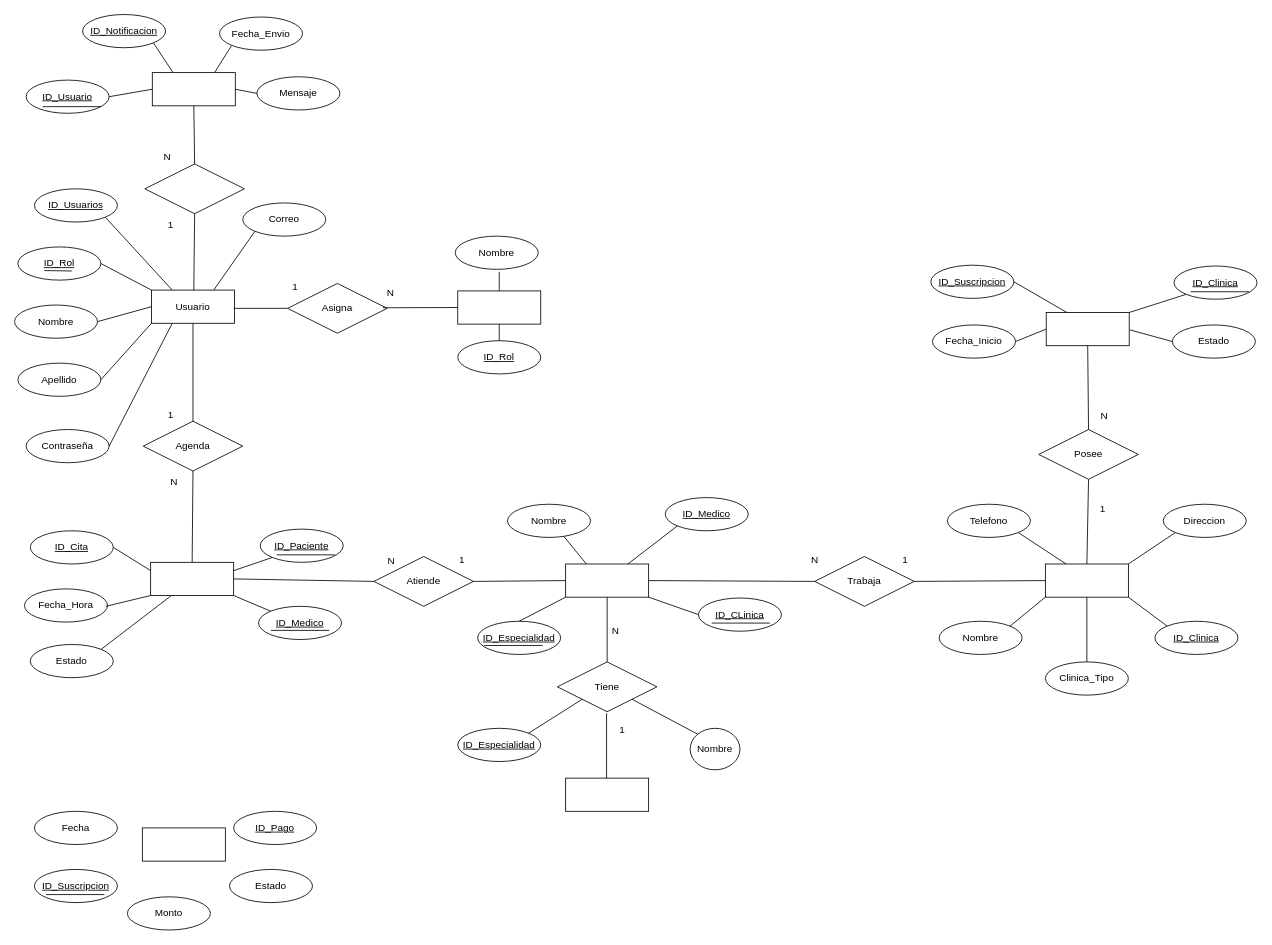
The diagram is 1272 pixels wide and 945 high, and some of its shapes have lost their labels. The shapes that lost their labels are listed below. From the top down, each one's centre as x and y in pixels, then its label:
At [193,89]: "Notificacion".
At [194,188]: "Recibe".
At [499,307]: "Rol".
At [1087,329]: "Suscripcion".
At [192,578]: "Cita".
At [607,580]: "Medico".
At [1086,580]: "Clinica".
At [607,794]: "Especialidad".
At [183,844]: "Pago".
